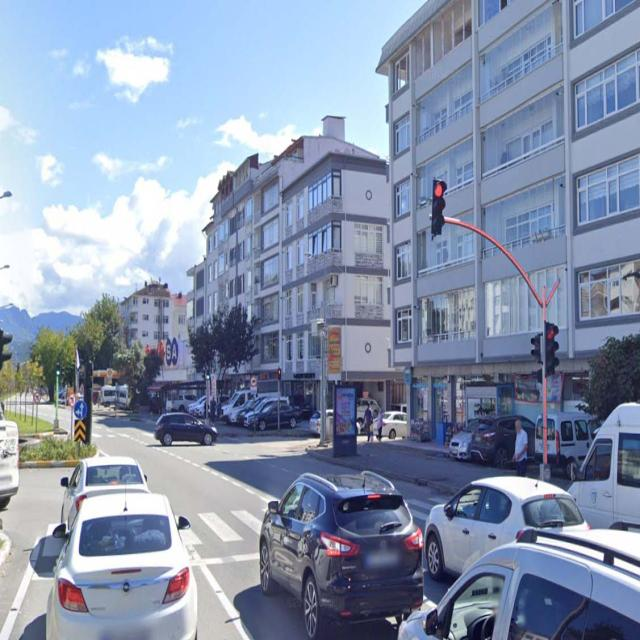ilerisol: (74, 399, 86, 418)
kirmizi: (544, 325, 558, 372), (434, 178, 444, 236)
